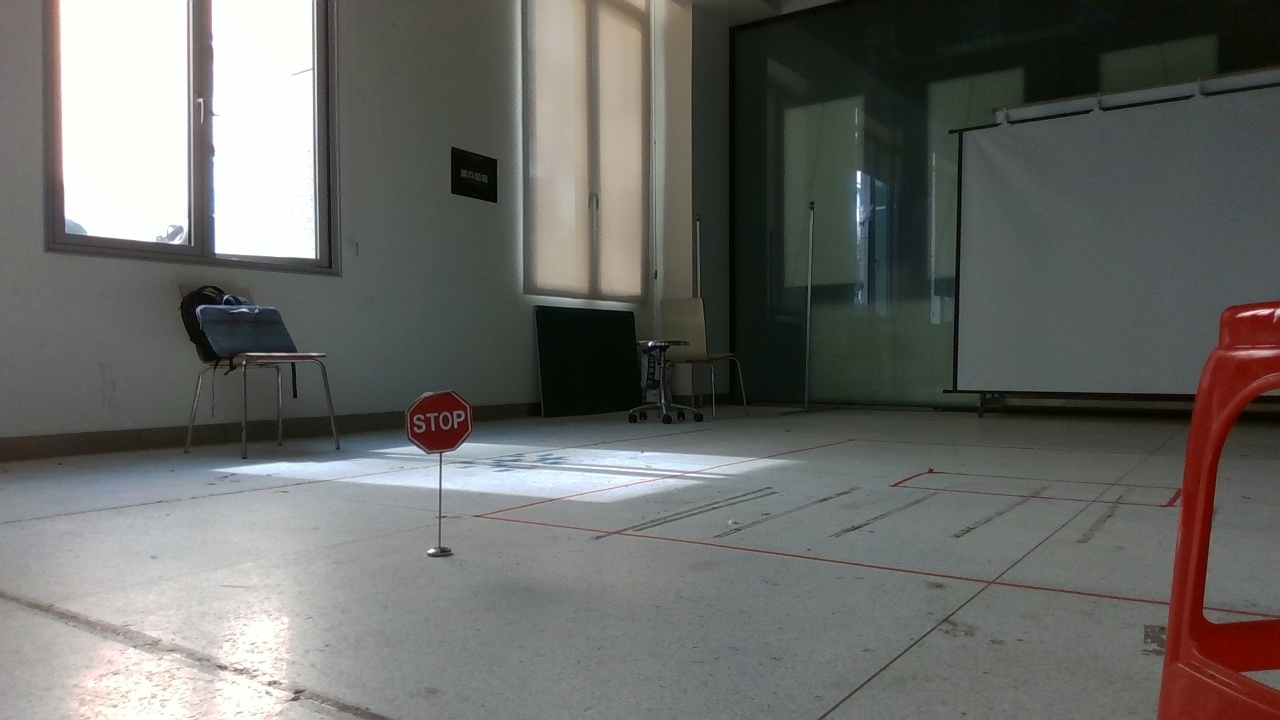stop_sign: (399, 385, 488, 455)
